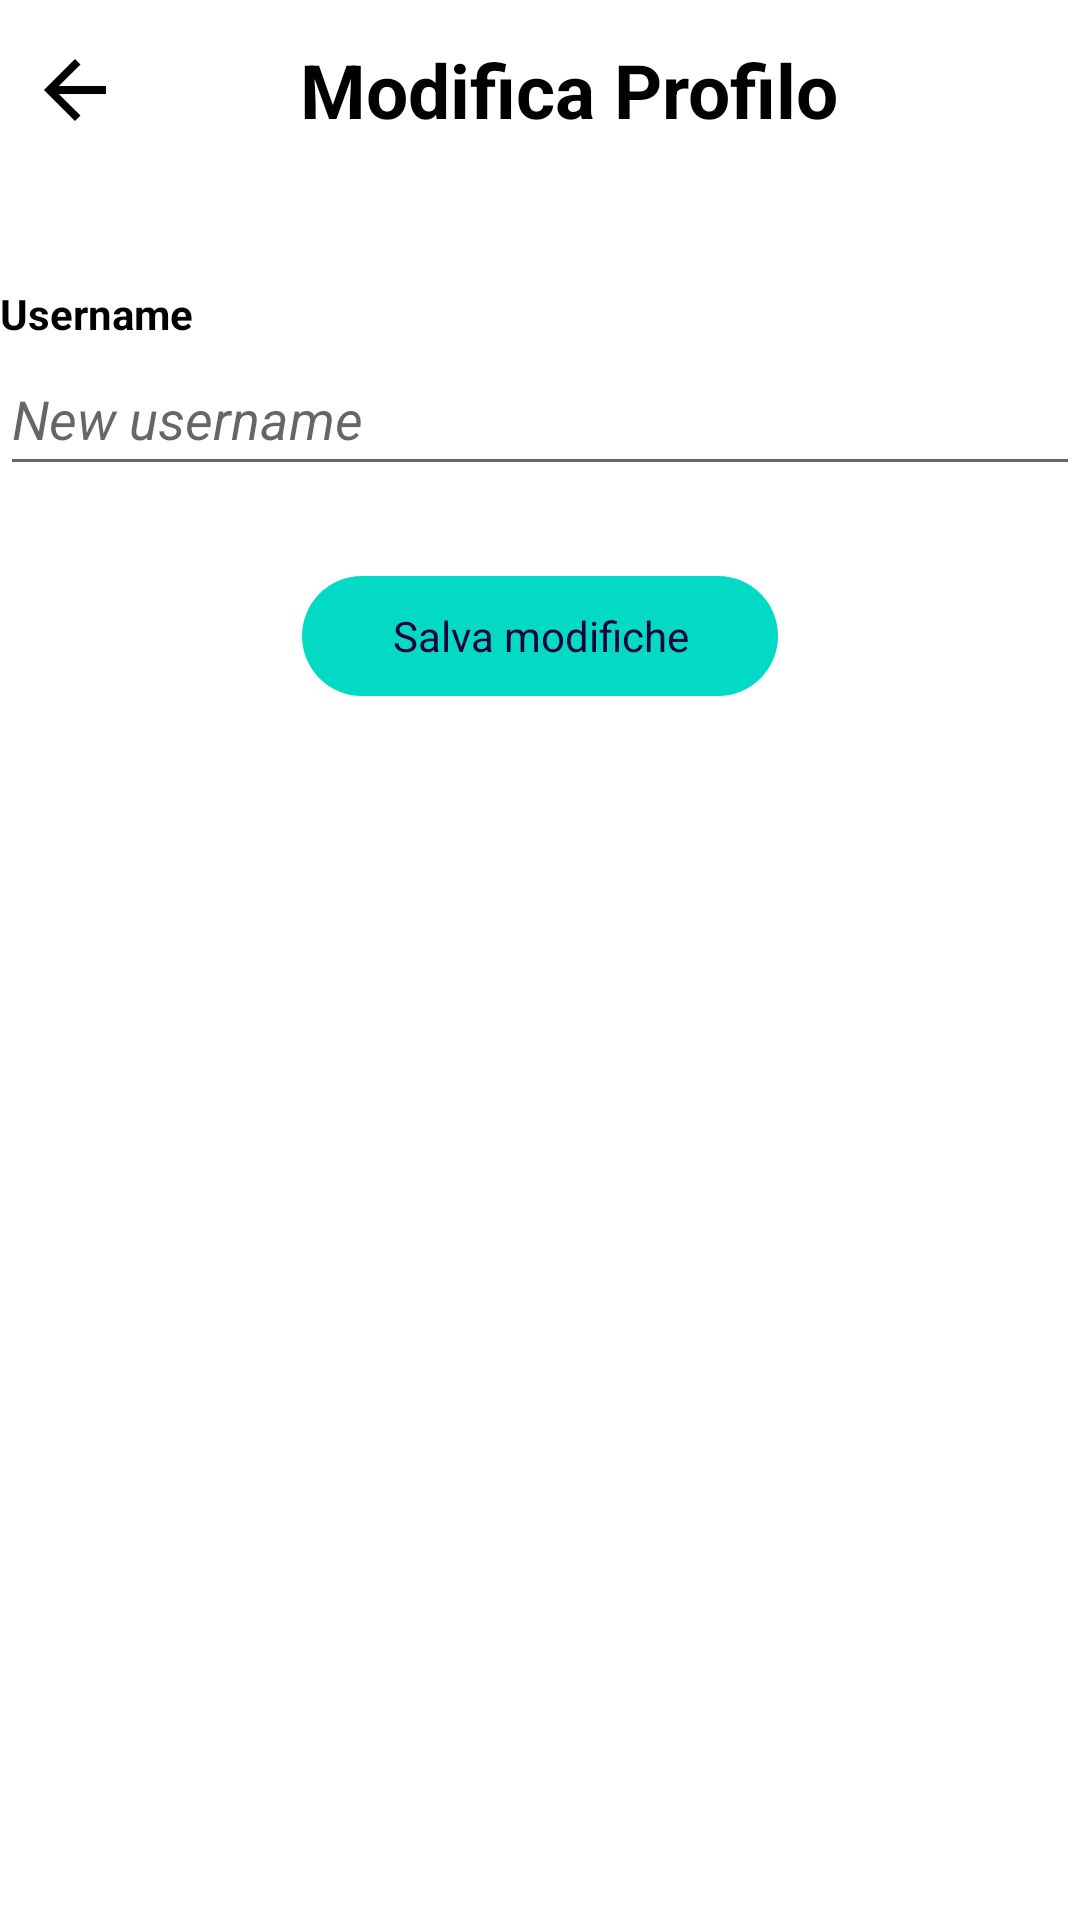

Screen size 1080x1920. Icon name, then its center in pixels as [x,y]:
goback: [75,90]
